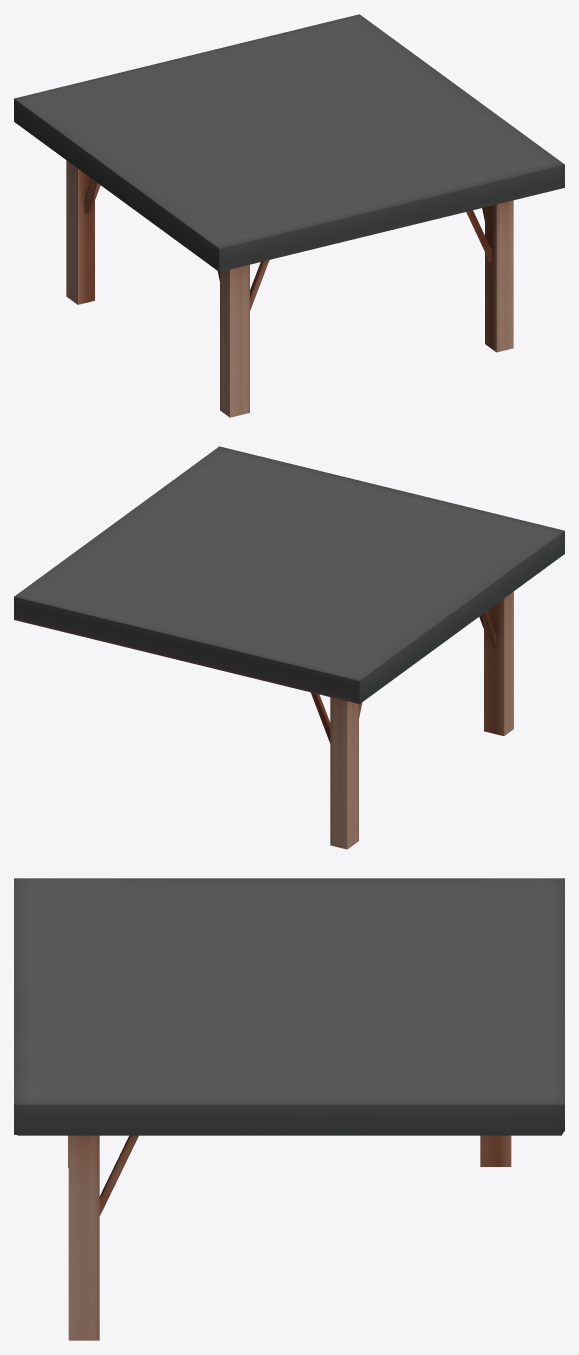
File: B10Broke04.FBX
3 renders of one model, top to bottom at view 1: azimuth 30°, elevation 25°; view 2: azimuth 150°, elevation 25°; view 3: azimuth 270°, elevation 25°, orthographic. The views are drawn at different scales.
Visible parts, largest first — view 1: B10Broke04; view 2: B10Broke04; view 3: B10Broke04.
Boxes of the visible parts, left/top/right/bottom form: B10Broke04: left=14, top=14, right=564, bottom=417; B10Broke04: left=14, top=446, right=564, bottom=849; B10Broke04: left=14, top=878, right=564, bottom=1340.
Bounding box in the file's own units: 37.34 × 19.73 × 38.44.
